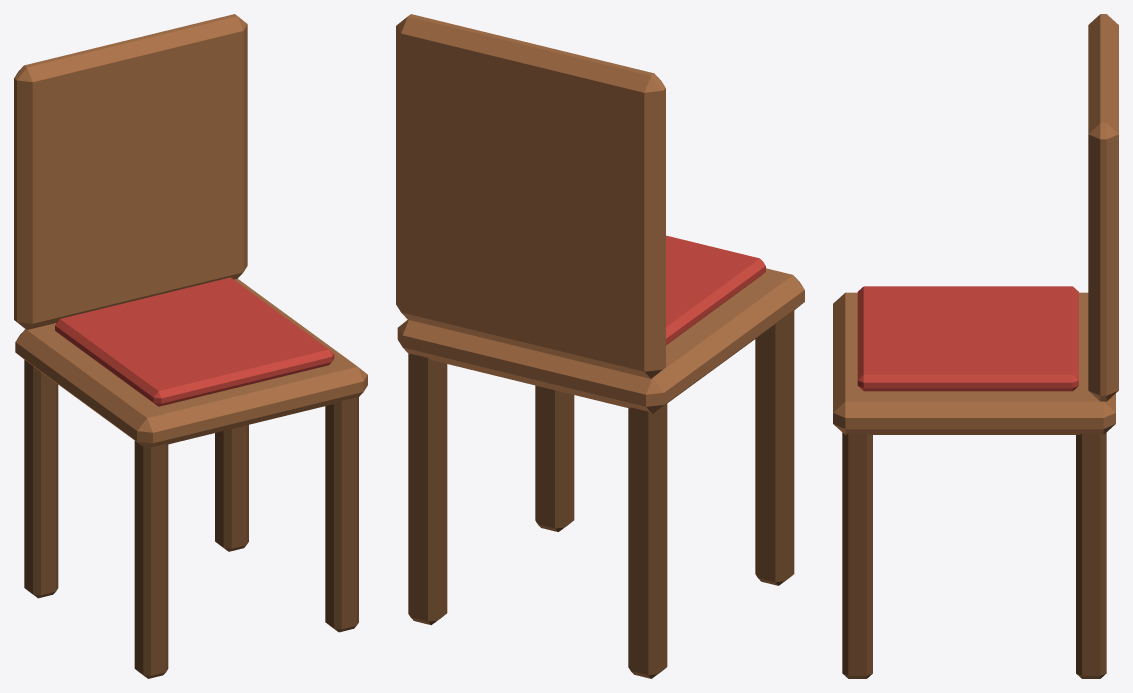
Rendered from chair.glb.
The picture shows the model from 3 angles, left to right: view 1: azimuth 30°, elevation 25°; view 2: azimuth 150°, elevation 25°; view 3: azimuth 270°, elevation 25°; orthographic projection. The views are drawn at different scales.
Visible parts, largest first — view 1: chair; view 2: chair; view 3: chair.
Part boxes in pixels (box(x1,y1,x2,y2)): chair: box(14, 14, 367, 678); chair: box(396, 14, 804, 678); chair: box(833, 14, 1118, 678).
Bounding box in the file's own units: 0.46 × 1 × 0.465.
